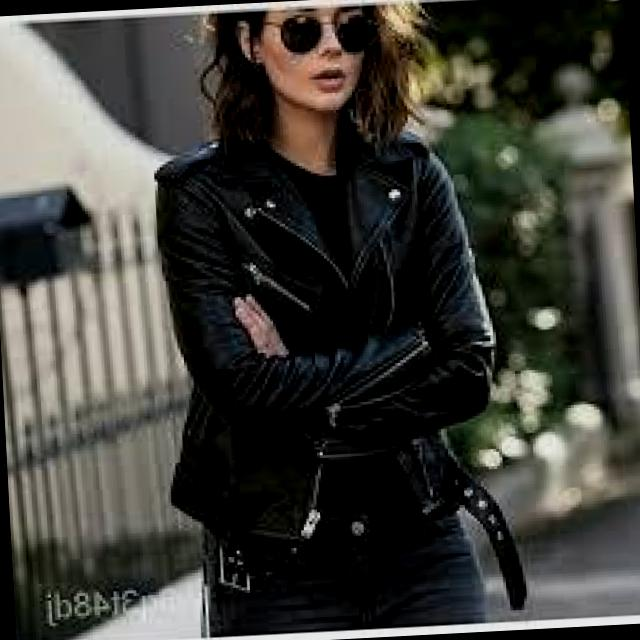jacket: (148, 106, 504, 550)
